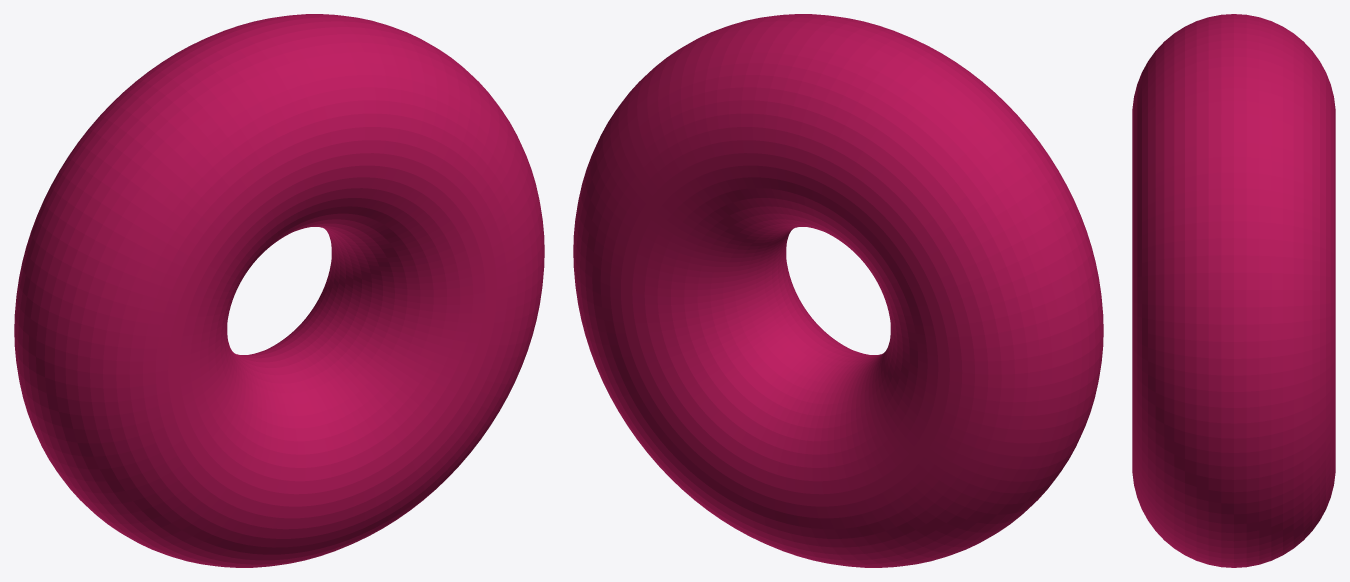
3 renders of one model, left to right at view 1: azimuth 30°, elevation 25°; view 2: azimuth 150°, elevation 25°; view 3: azimuth 270°, elevation 25°, orthographic. The views are drawn at different scales.
Parts seen in each view (by area): view 1: world; view 2: world; view 3: world.
Part boxes in pixels (x1=…): world: x1=14, y1=14, x2=544, y2=567; world: x1=573, y1=14, x2=1103, y2=567; world: x1=1132, y1=14, x2=1335, y2=567.
Size of the model in its own units: 22.13 by 22.13 by 8.12.
